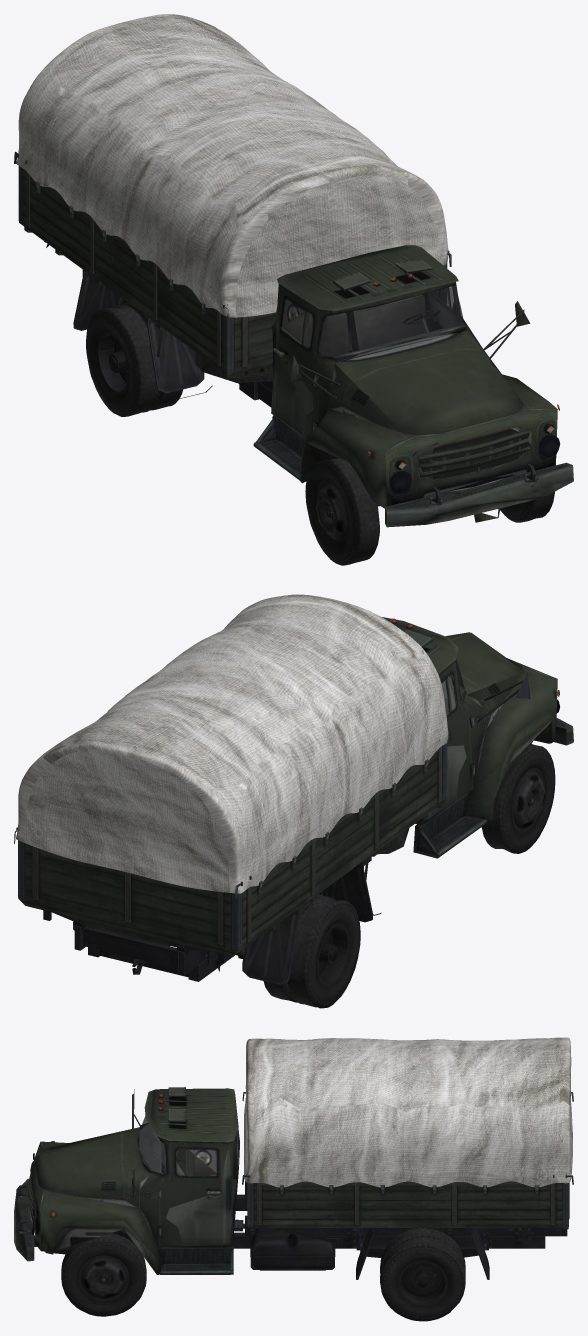
File: zil130.gltf
3 renders of one model, top to bottom at view 1: azimuth 30°, elevation 25°; view 2: azimuth 150°, elevation 25°; view 3: azimuth 270°, elevation 25°, orthographic. The views are drawn at different scales.
Parts seen in each view (by area): view 1: Body, Wheel_RR, Wheel_FR, Wheel_FL; view 2: Body, Wheel_RR, Wheel_FR; view 3: Body, Wheel_RL, Wheel_FL.
Part boxes in pixels (x1=…): Body: x1=14, y1=14, x2=573, y2=527; Wheel_RR: x1=86, y1=302, x2=182, y2=416; Wheel_FR: x1=305, y1=458, x2=379, y2=565; Wheel_FL: x1=500, y1=491, x2=554, y2=522; Body: x1=14, y1=594, x2=573, y2=984; Wheel_RR: x1=263, y1=894, x2=360, y2=1008; Wheel_FR: x1=481, y1=744, x2=555, y2=853; Body: x1=14, y1=1037, x2=573, y2=1279; Wheel_RL: x1=380, y1=1228, x2=465, y2=1321; Wheel_FL: x1=61, y1=1233, x2=146, y2=1316.
Bounding box in the file's own units: 2.54 × 3.01 × 6.67.
8 materials, 8 textured.
